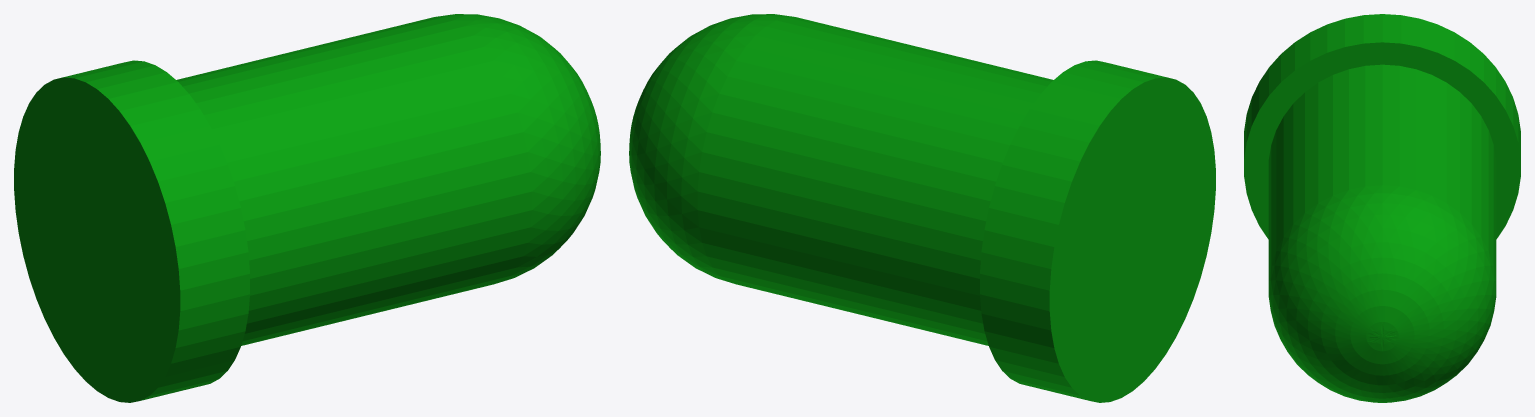
The model's file is LED 3mm.dae.
3 renders of one model, left to right at view 1: azimuth 30°, elevation 25°; view 2: azimuth 150°, elevation 25°; view 3: azimuth 270°, elevation 25°, orthographic. The views are drawn at different scales.
Visible parts, largest first — view 1: node0; view 2: node0; view 3: node0.
Part boxes in pixels (<box>): node0: <box>14,14,600,402</box>; node0: <box>629,14,1215,402</box>; node0: <box>1244,14,1520,402</box>.
Size of the model in its own units: 0.00613 by 0.00363 by 0.00364.
